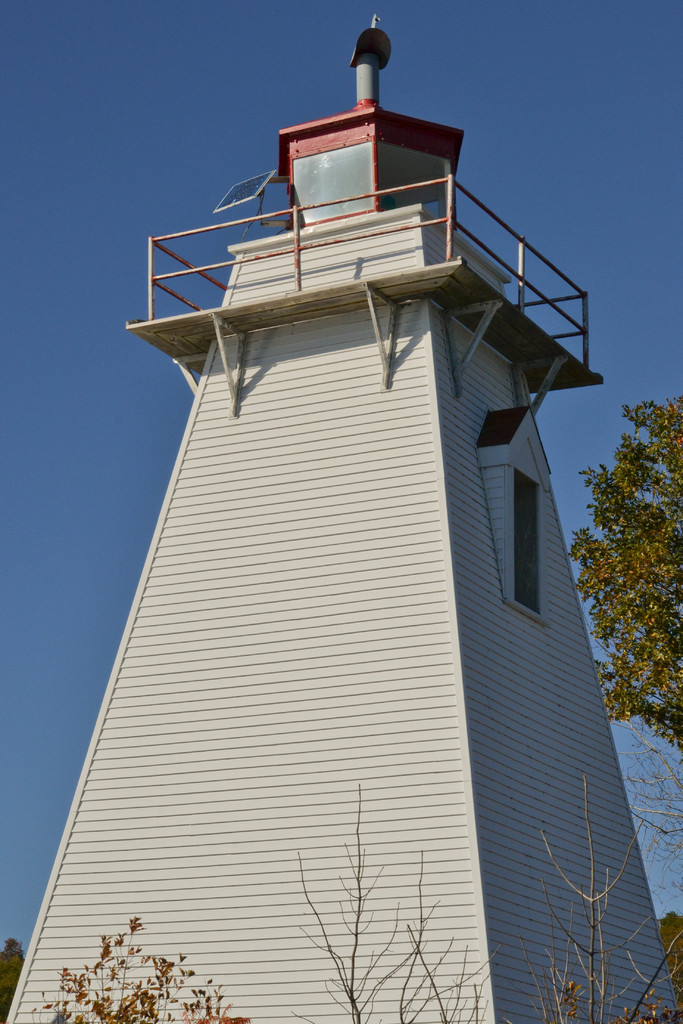Tree: (564, 395, 683, 930), (0, 937, 24, 1024)
